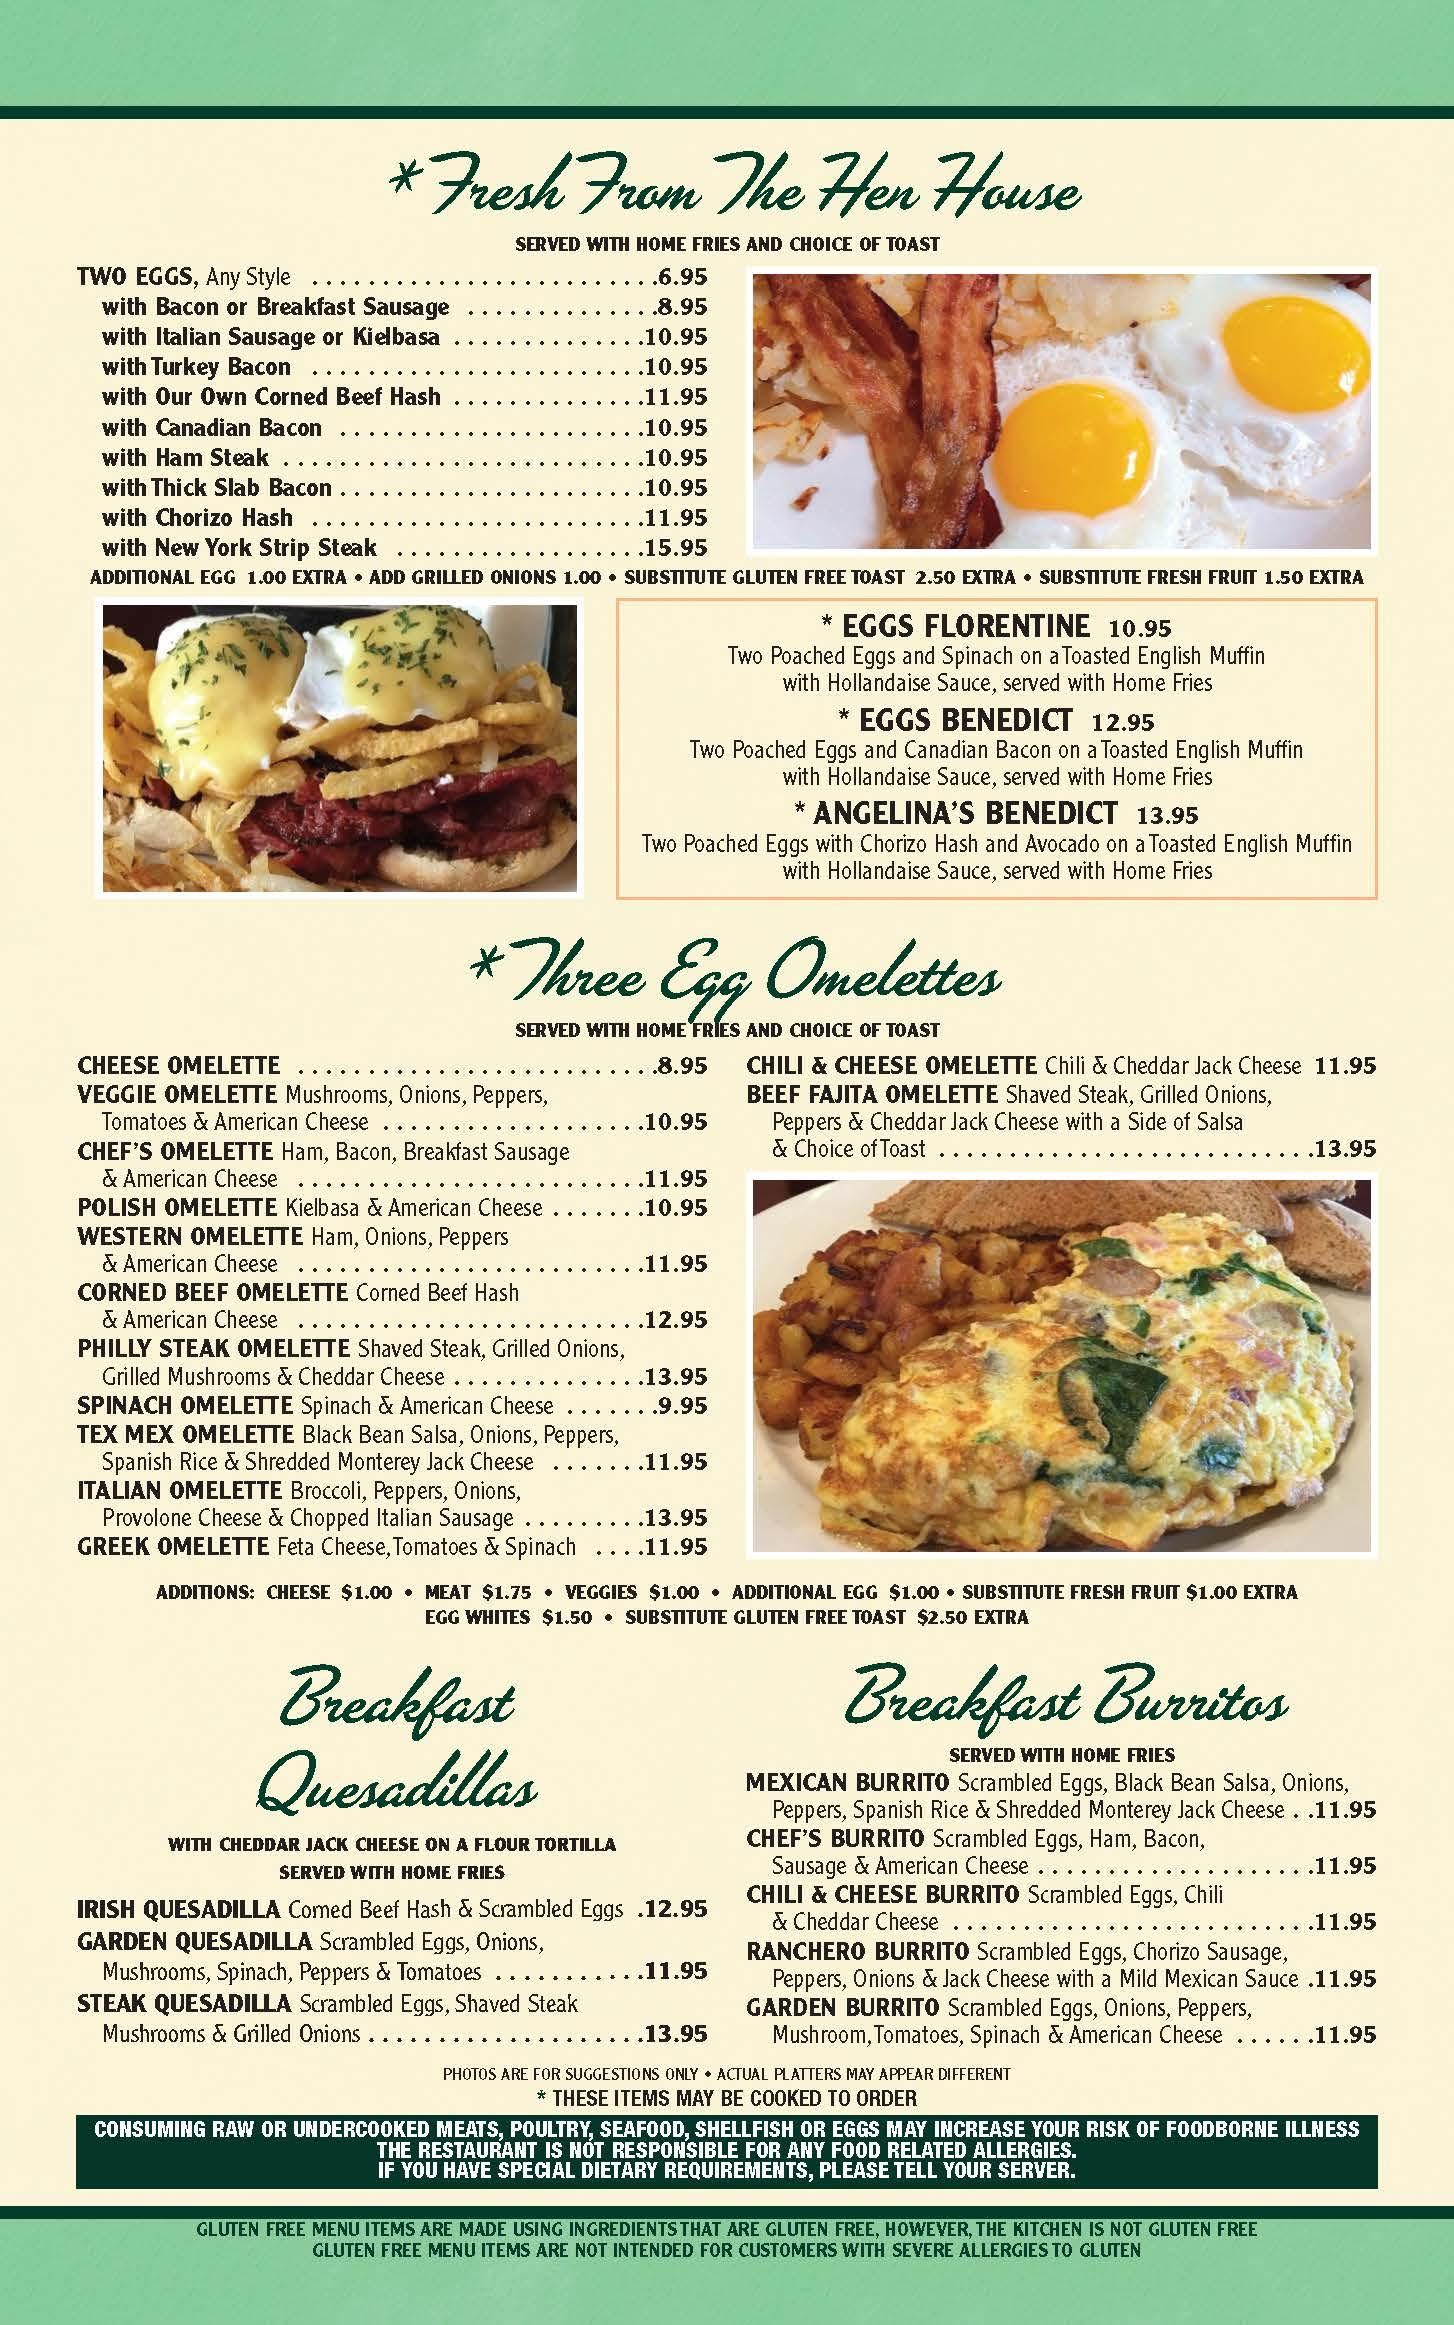Menu-Items: (635, 792, 1367, 894), (136, 1575, 1355, 1633), (695, 705, 1328, 794), (692, 608, 1273, 704), (742, 1087, 1384, 1162), (70, 556, 1382, 591), (65, 1985, 717, 2050), (55, 1075, 757, 1136), (729, 1759, 1397, 1821), (62, 1223, 739, 1281), (729, 1881, 1394, 1936), (60, 1422, 717, 1477), (62, 1335, 739, 1389), (732, 1938, 1397, 1992), (54, 1477, 717, 1531), (60, 1281, 730, 1333), (729, 1828, 1395, 1879), (734, 1997, 1394, 2049), (65, 1931, 717, 1983), (69, 1137, 730, 1188), (69, 1039, 714, 1077), (49, 1534, 710, 1568), (744, 1044, 1384, 1077), (67, 261, 720, 293), (47, 1191, 722, 1221), (69, 1889, 714, 1920), (65, 1394, 722, 1420), (97, 322, 714, 348), (95, 293, 715, 318), (97, 415, 712, 441), (102, 353, 715, 379), (99, 385, 712, 410), (101, 446, 714, 471), (102, 504, 710, 529), (95, 533, 712, 556), (97, 477, 719, 499)
